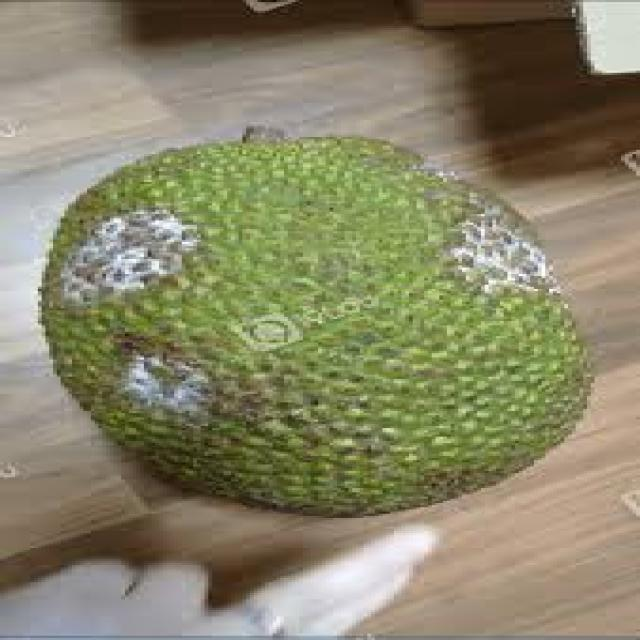organic waste: (34, 122, 595, 518)
